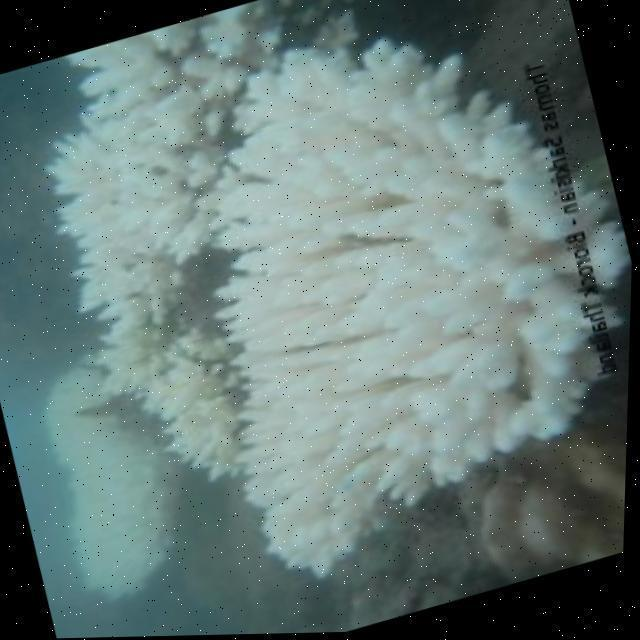Bleached Coral: (33, 0, 640, 556), (0, 275, 210, 635)
